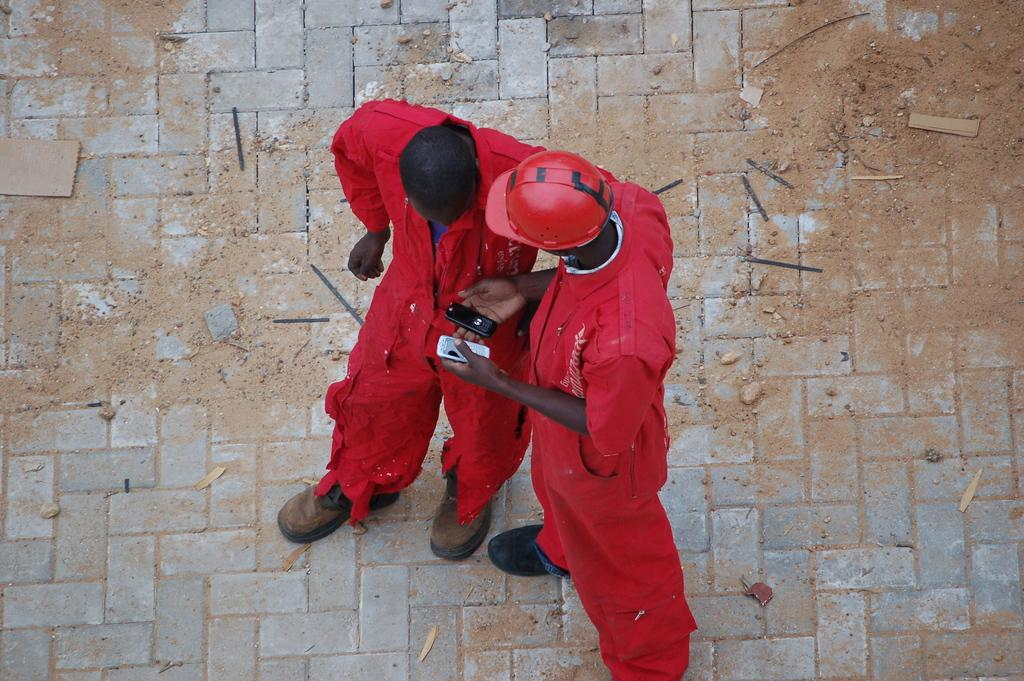helmet: (485, 150, 614, 257)
nohelmet: (397, 124, 482, 228)
